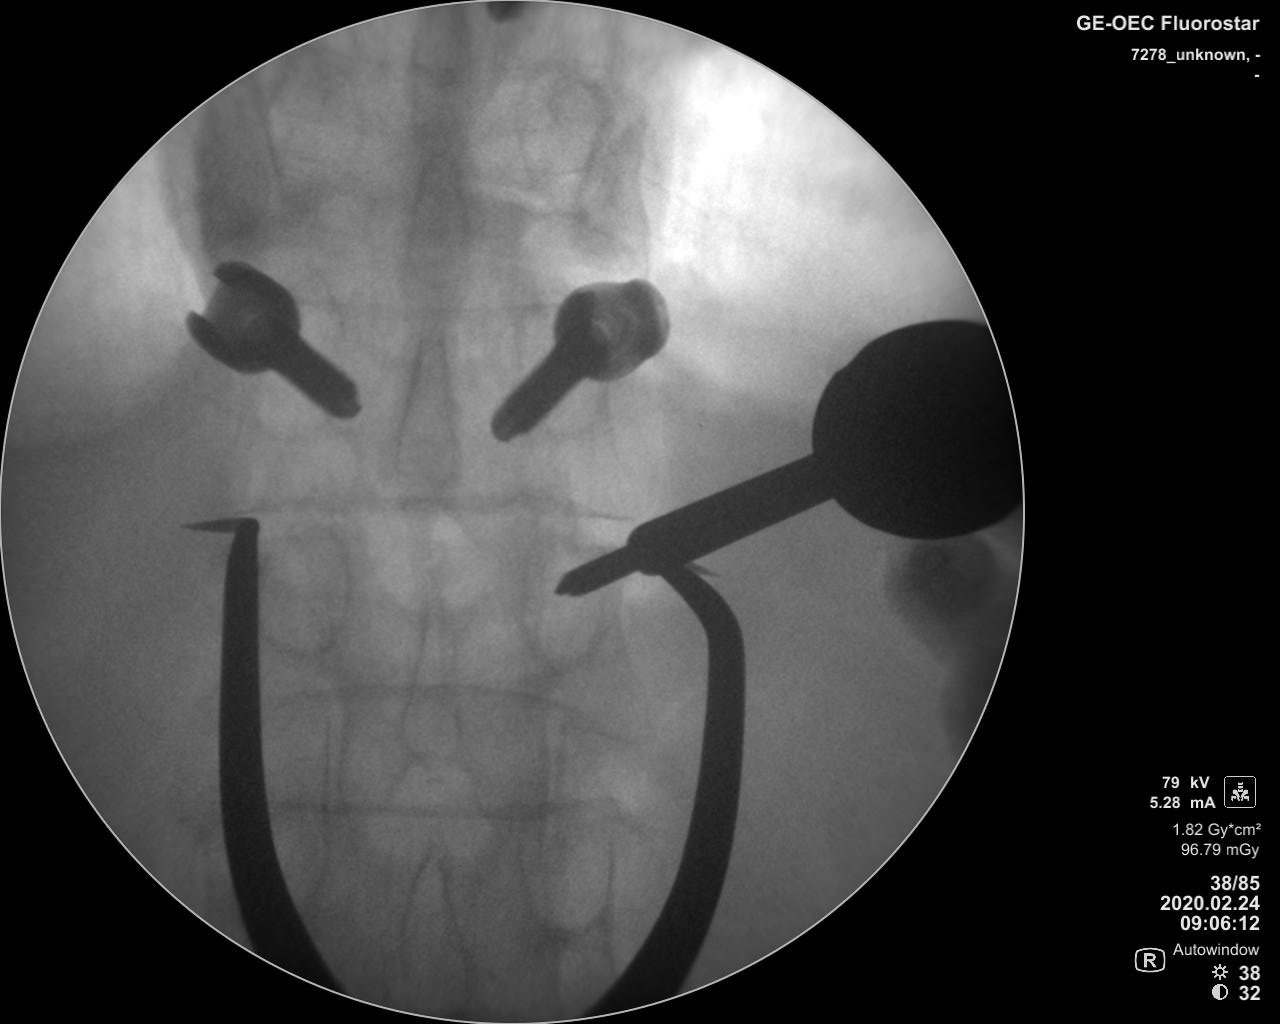eyes: (515, 64, 609, 213), (513, 805, 615, 940), (515, 538, 614, 671), (256, 519, 349, 658), (508, 309, 605, 441), (255, 286, 334, 447)
line: (236, 488, 631, 529), (266, 683, 611, 715), (267, 794, 572, 828), (298, 290, 560, 323)
nose: (398, 568, 467, 760), (397, 846, 475, 1009), (388, 324, 462, 495), (403, 146, 473, 294), (405, 8, 471, 147)
